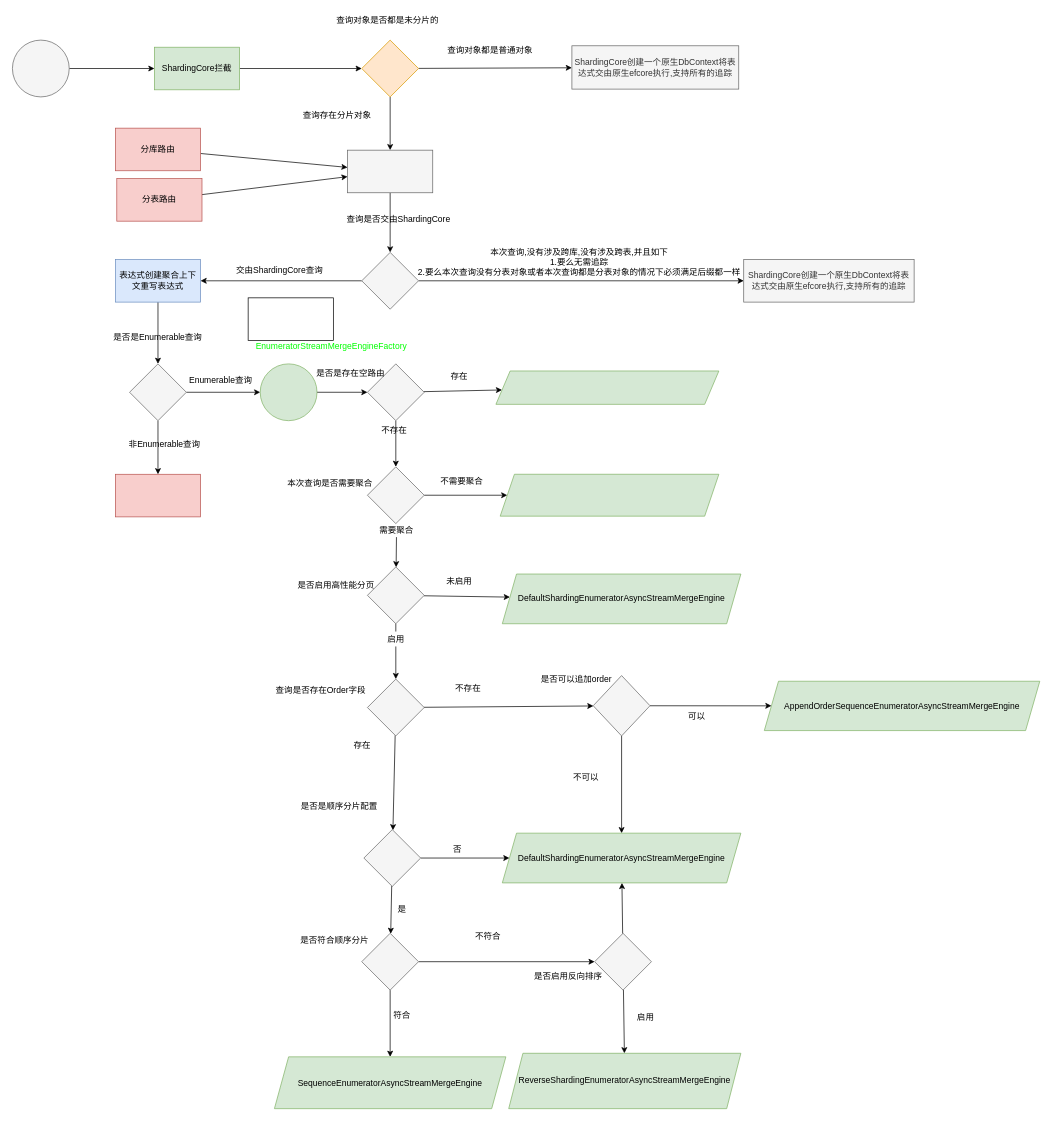
Image size: 1052x1121. Some labels were removed from this diagram. Each missing label, with the centre of its shape:
SingleQueryEnumeratorAsyncStreamMergeEngine: [609,495]
使用路由引擎获取表达式路由: [390,171]
发起查询: [40,68]
抛出异常或者返回EmptyQueryEnumeratorAsyncStreamMergeEngine: [607,387]
非Enumerable查询使用特定的聚合器: [158,495]
